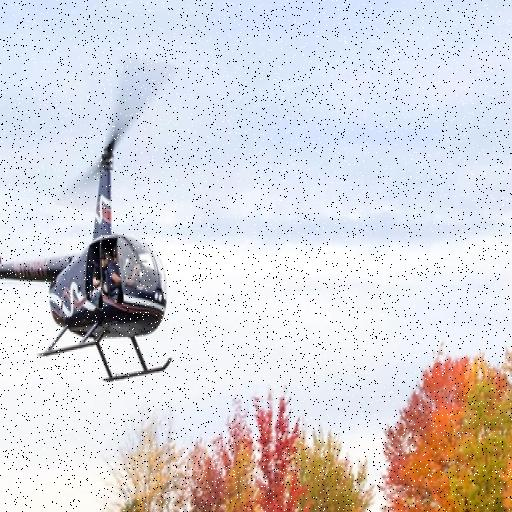helicopter: (1, 41, 197, 390)
